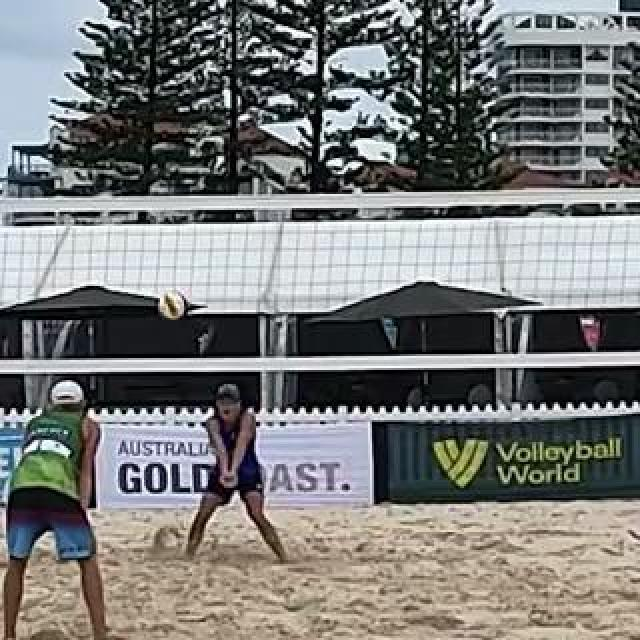volleyball: (157, 290, 187, 320)
